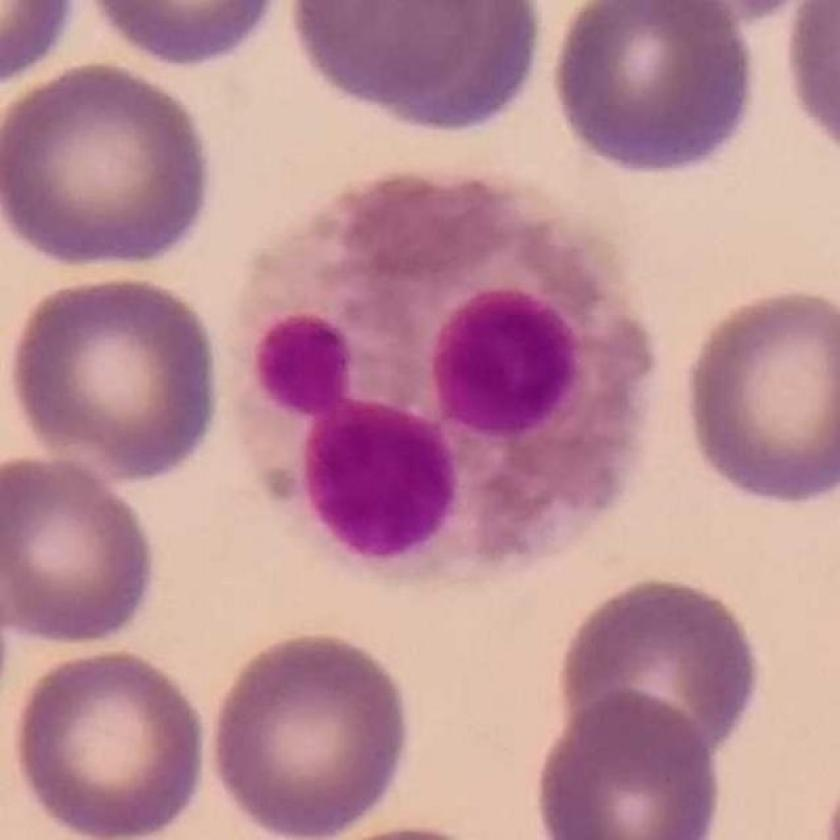eosinophil: (228, 165, 659, 590)
